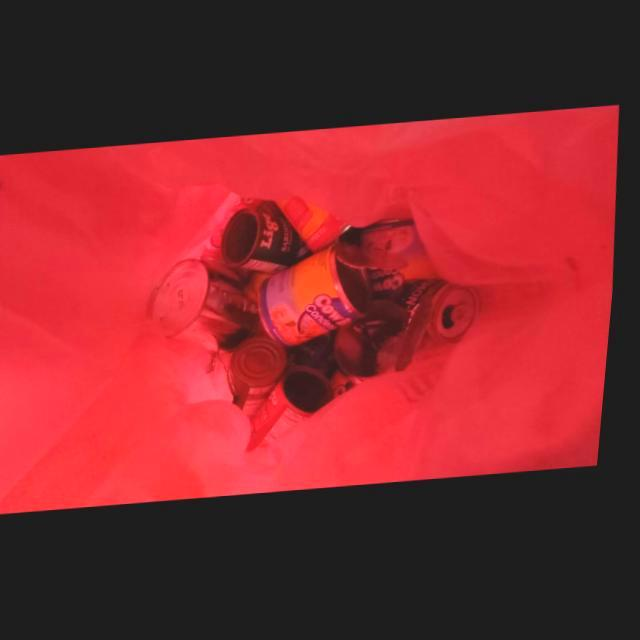aluminum: (272, 244, 414, 347), (157, 260, 267, 353), (341, 296, 437, 379), (254, 367, 340, 453), (225, 210, 317, 274), (236, 337, 294, 425), (408, 281, 484, 345), (279, 198, 355, 255)
